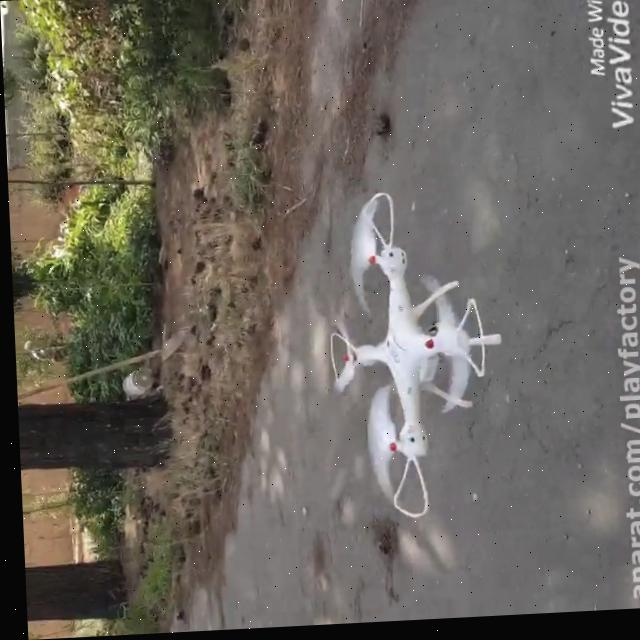drone: (320, 187, 504, 526)
